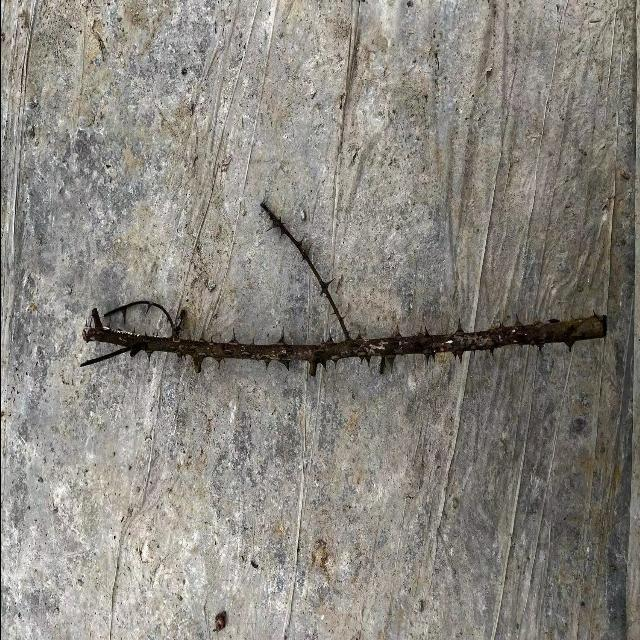branch: (83, 307, 608, 366)
